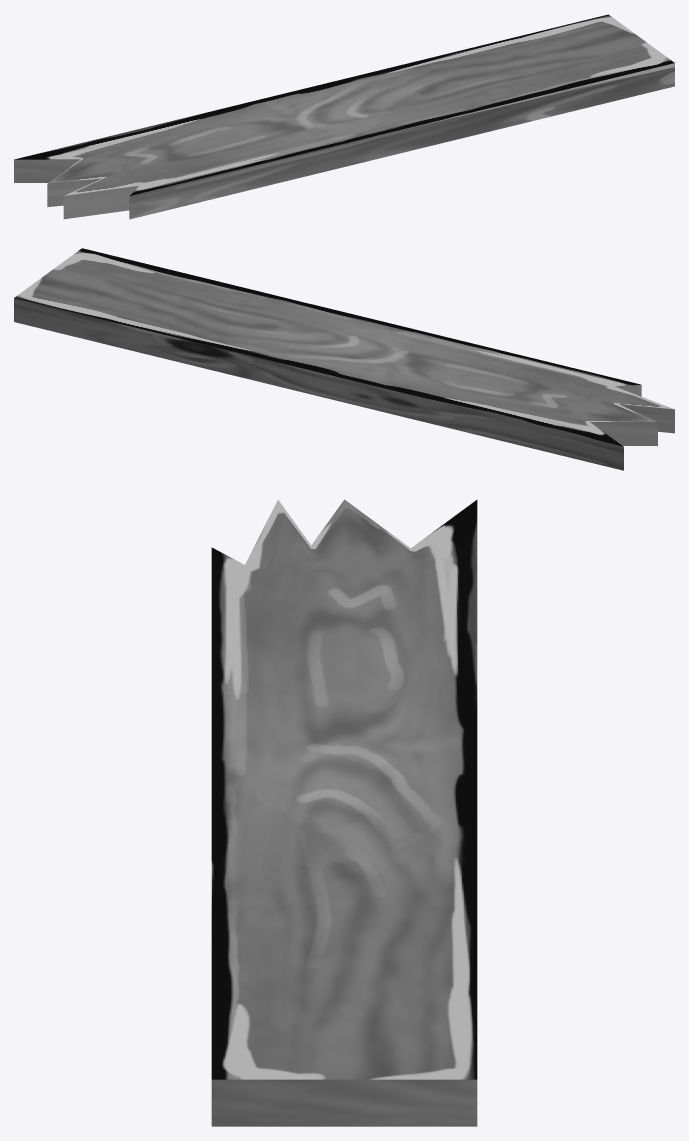
Rendered from FBX_Plank_Broken_V1.fbx.
3 views of the same model, one above another, from view 1: azimuth 30°, elevation 25°; view 2: azimuth 150°, elevation 25°; view 3: azimuth 270°, elevation 25° (orthographic). The views are drawn at different scales.
Parts seen in each view (by area): view 1: FBX_Plank_broken; view 2: FBX_Plank_broken; view 3: FBX_Plank_broken.
Part boxes in pixels (x1,y1,x2,y2): FBX_Plank_broken: [14, 14, 674, 219]; FBX_Plank_broken: [14, 248, 674, 470]; FBX_Plank_broken: [211, 499, 477, 1126].
Bounding box in the file's own units: 424 × 15.92 × 81.96.
